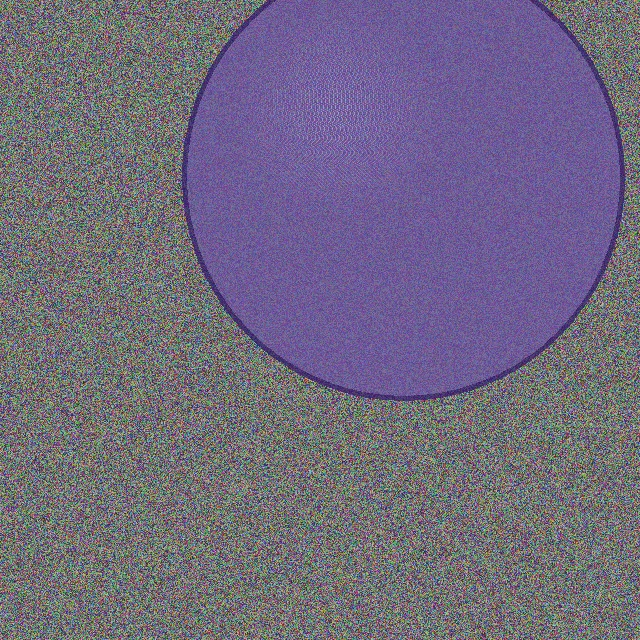lens: (185, 0, 621, 397)
